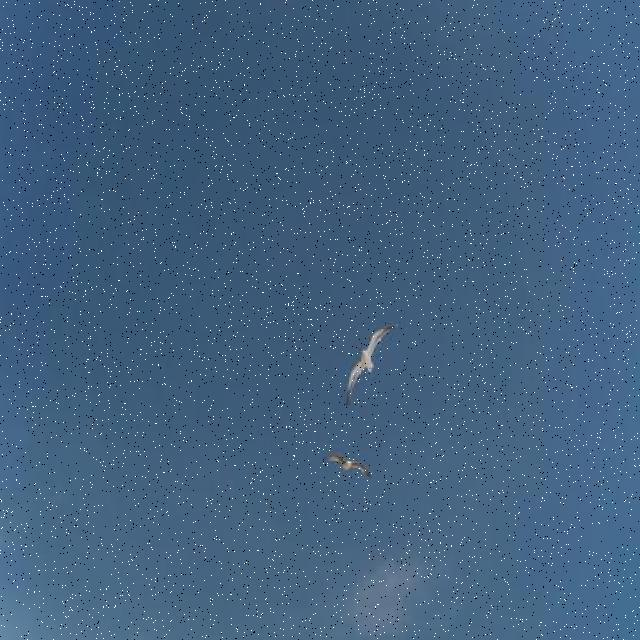bird: (344, 324, 398, 406), (323, 453, 371, 481)
